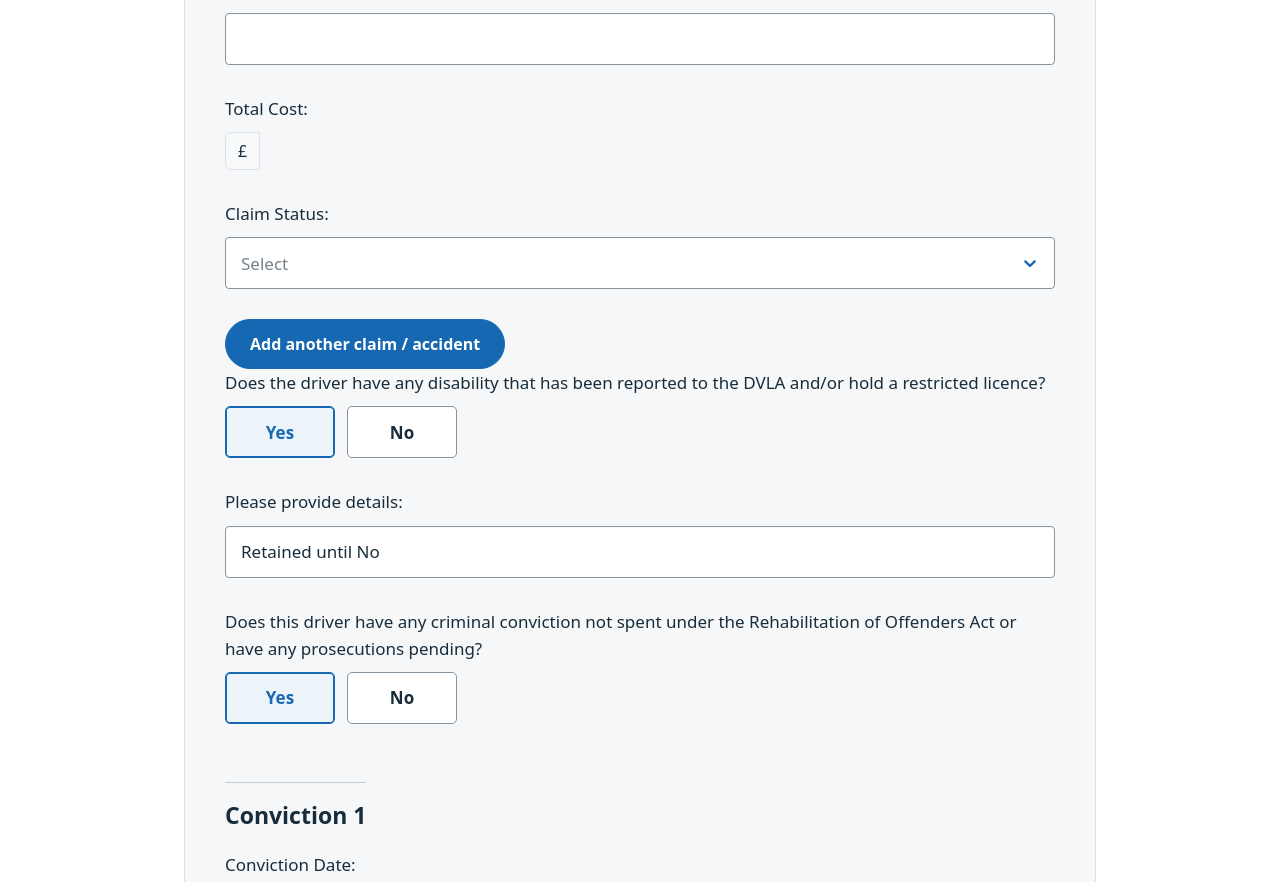
Test: MTS-06-Q08–60 complete active detail groups retain canonical field order and first-row omissions
This screenshot has width=1280, height=882.
(page scrolled)
What coordinates should you click on to do the following:
click the 1st label "No"
I would click on:
 (402, 432)
Its box is [347,406,457,458].
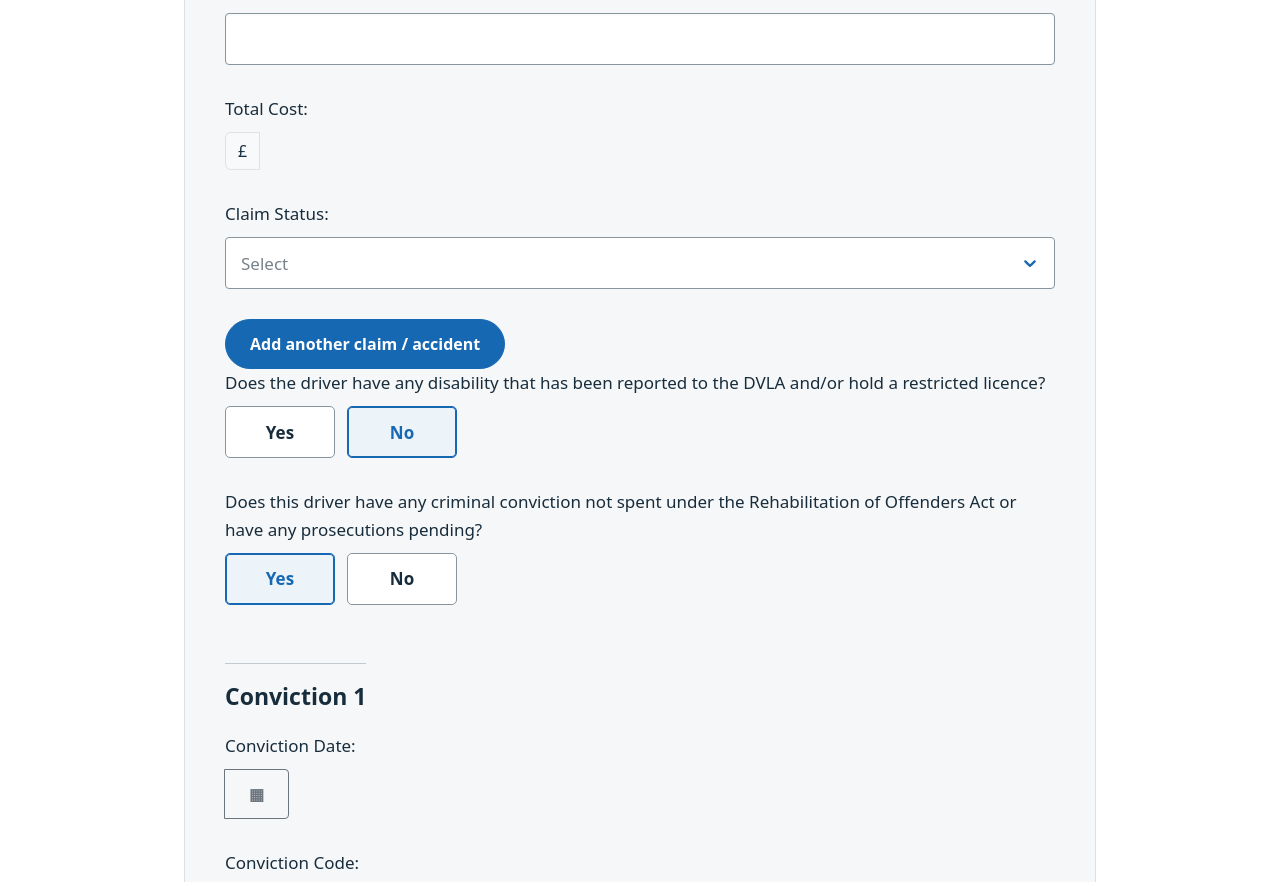
Expected: the label named "hasReportedDisabilityDetails" is gone
